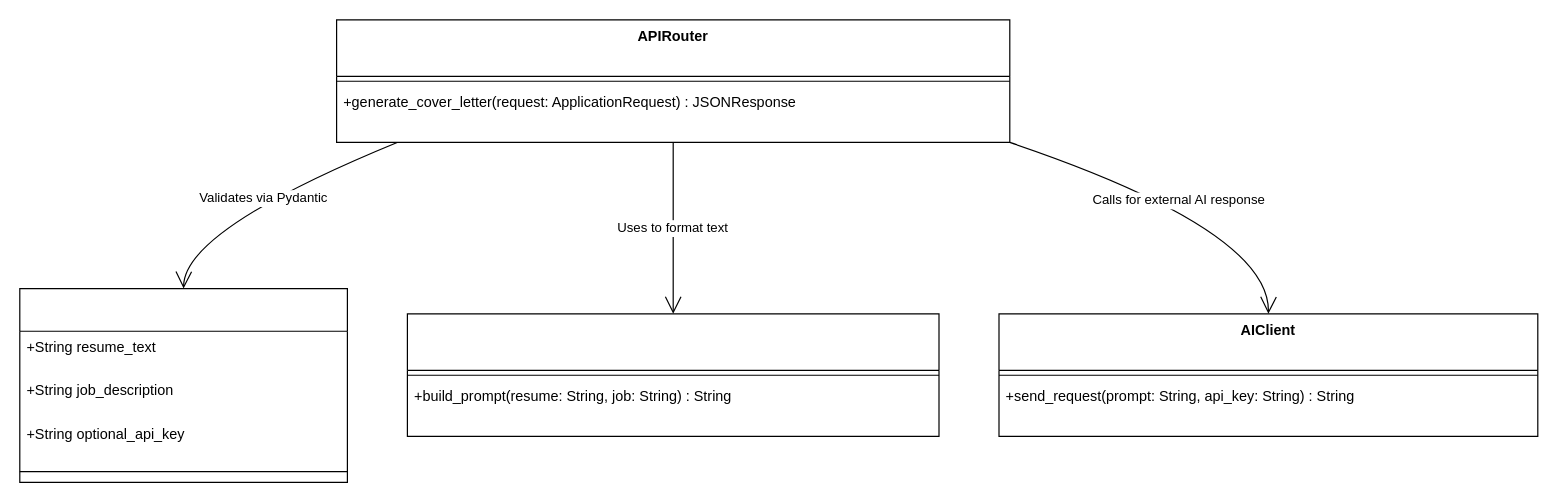
Image size: 1558x502. Some labels were removed from this diagram. The box of each missing label's shape, as (x1, y1, x2, y2) in pixels:
ApplicationRequest: (19, 287, 347, 482)
PromptBuilder: (406, 313, 939, 436)
